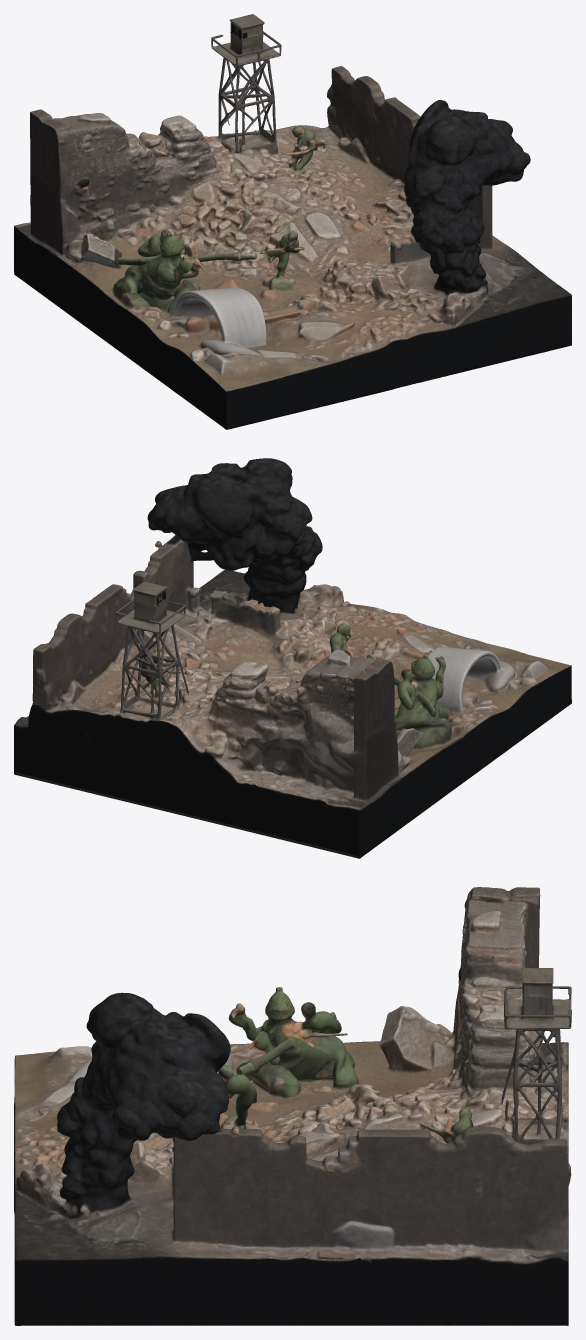
Rendered from mat_tran_quang_tri.glb.
The picture shows the model from 3 angles, top to bottom: view 1: azimuth 30°, elevation 25°; view 2: azimuth 150°, elevation 25°; view 3: azimuth 270°, elevation 25°; orthographic projection. The views are drawn at different scales.
Bounding box in the file's own units: 1.8 × 1.03 × 1.89.
Materials: 1 (1 with a texture image).
